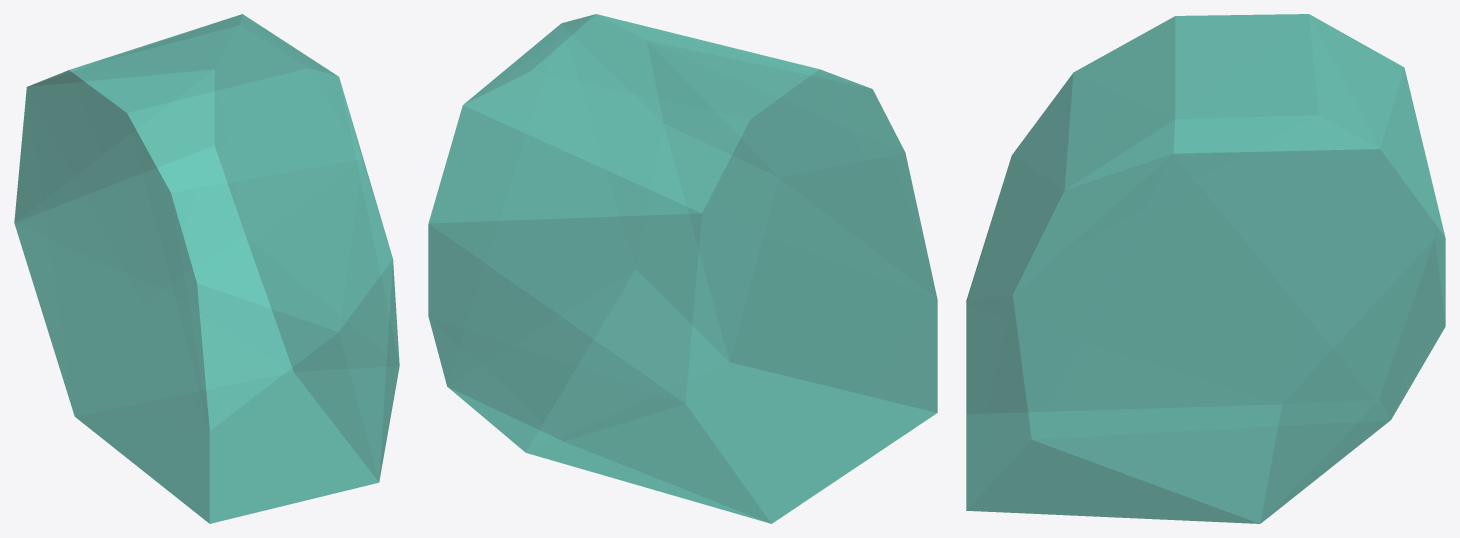
The picture shows the model from 3 angles, left to right: view 1: azimuth 30°, elevation 25°; view 2: azimuth 150°, elevation 25°; view 3: azimuth 270°, elevation 25°; orthographic projection. The views are drawn at different scales.
Parts seen in each view (by area): view 1: Shape_IndexedFaceSet.016_Shape_IndexedFaceSet.16467; view 2: Shape_IndexedFaceSet.016_Shape_IndexedFaceSet.16467; view 3: Shape_IndexedFaceSet.016_Shape_IndexedFaceSet.16467.
Part boxes in pixels (box(x1,y1,x2,y2)): Shape_IndexedFaceSet.016_Shape_IndexedFaceSet.16467: box(14, 14, 399, 523); Shape_IndexedFaceSet.016_Shape_IndexedFaceSet.16467: box(428, 14, 937, 523); Shape_IndexedFaceSet.016_Shape_IndexedFaceSet.16467: box(966, 14, 1445, 523).
Size of the model in its own units: 0.0616 by 0.0932 by 0.1003.
